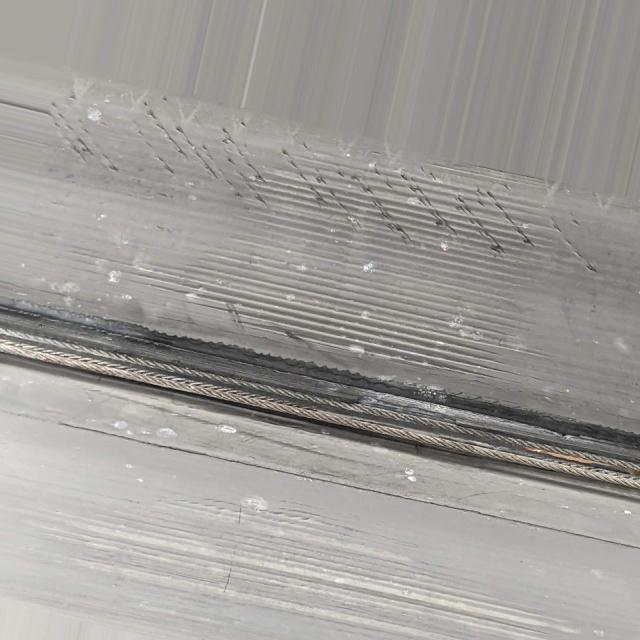Tear: (37, 93, 595, 273)
impact damage: (0, 307, 640, 498), (132, 237, 525, 377)
